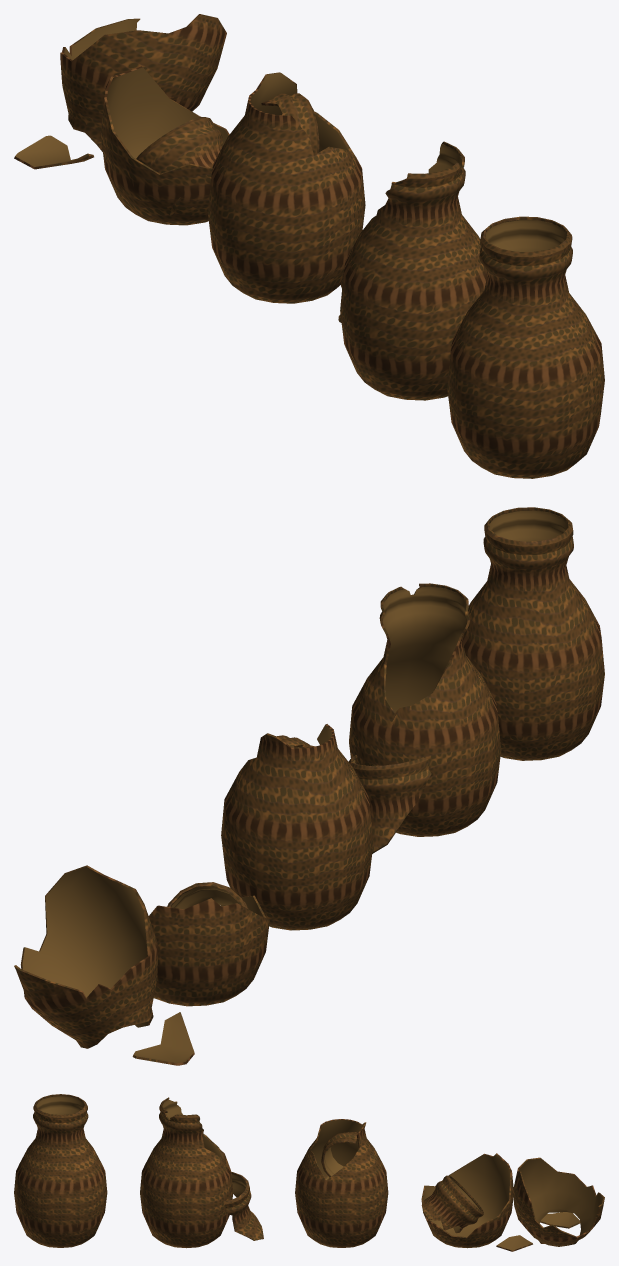
Rendered from vase_normal_and_broken.glb.
3 renders of one model, top to bottom at view 1: azimuth 30°, elevation 25°; view 2: azimuth 150°, elevation 25°; view 3: azimuth 270°, elevation 25°, orthographic. The views are drawn at different scales.
Visible parts, largest first — view 1: Vase_ModelMain_0, VaseBroken2_ModelMain_2, VaseBroken3_ModelMain_3, VaseBroken1_ModelMain_1; view 2: VaseBroken3_ModelMain_3, VaseBroken1_ModelMain_1, Vase_ModelMain_0, VaseBroken2_ModelMain_2; view 3: VaseBroken3_ModelMain_3, VaseBroken1_ModelMain_1, Vase_ModelMain_0, VaseBroken2_ModelMain_2.
Part boxes in pixels (x1,y1,x2,y2): Vase_ModelMain_0: (447, 216, 604, 478); VaseBroken2_ModelMain_2: (208, 72, 365, 303); VaseBroken3_ModelMain_3: (14, 14, 229, 225); VaseBroken1_ModelMain_1: (338, 141, 487, 400); VaseBroken3_ModelMain_3: (14, 865, 269, 1065); VaseBroken1_ModelMain_1: (348, 583, 501, 853); Vase_ModelMain_0: (462, 507, 604, 760); VaseBroken2_ModelMain_2: (221, 724, 373, 930); VaseBroken3_ModelMain_3: (421, 1153, 604, 1251); VaseBroken1_ModelMain_1: (140, 1097, 263, 1248); Vase_ModelMain_0: (14, 1094, 107, 1247); VaseBroken2_ModelMain_2: (295, 1119, 388, 1247).
Bounding box in the file's own units: 1.71 × 2.03 × 8.17.
Materials: 2 (1 with a texture image).
